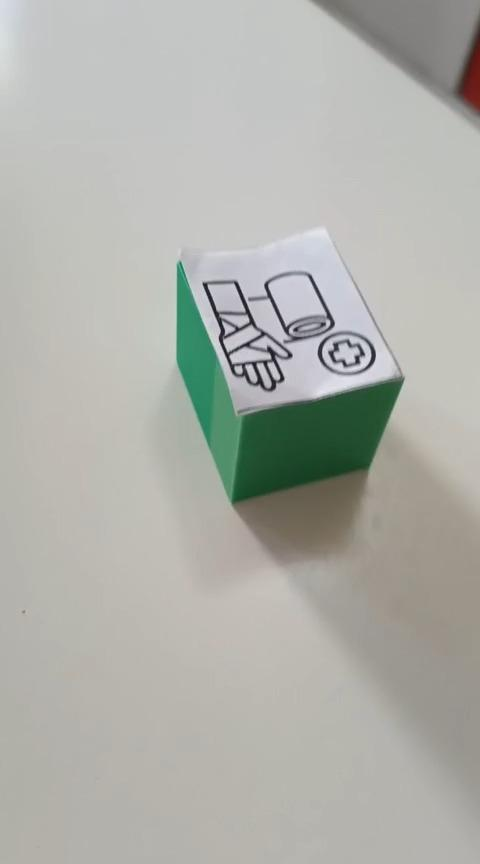Bandages: (174, 225, 405, 504)
